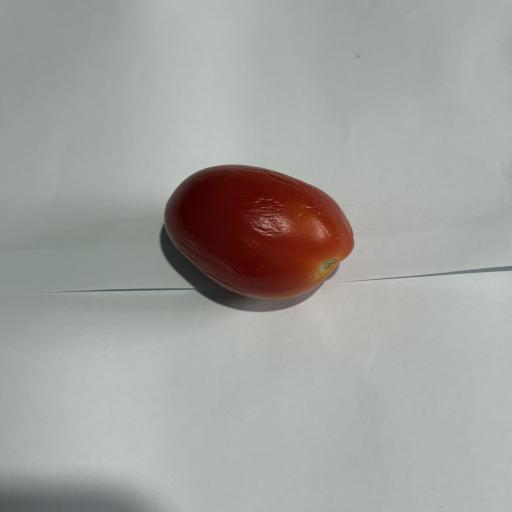ripe: (165, 165, 354, 299)
spoiled: (165, 165, 354, 299)
